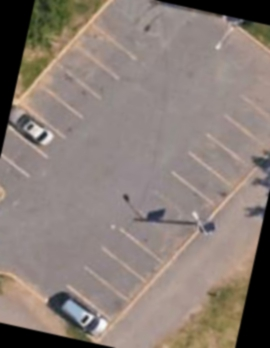parkingspot: (41, 53, 270, 345), (0, 17, 143, 204)
